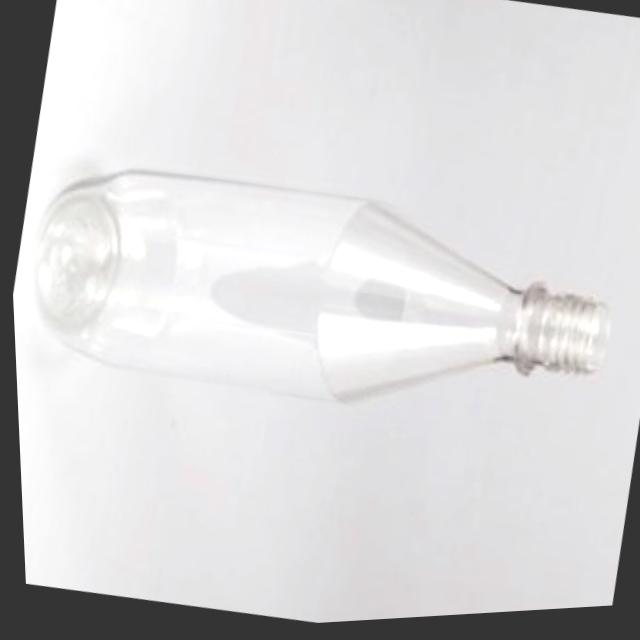anorganik: (5, 125, 634, 502)
